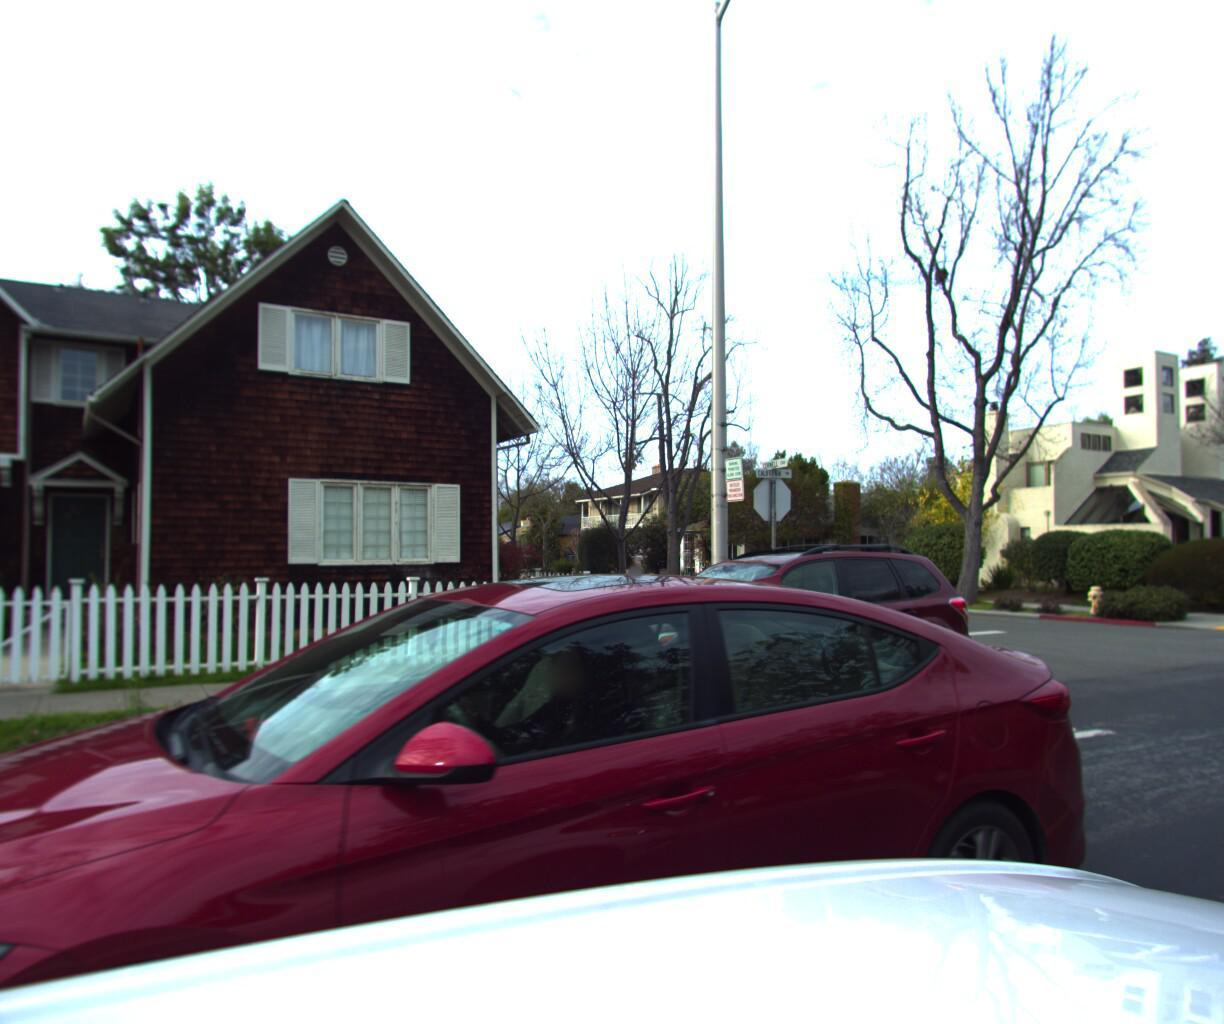car: (0, 564, 1138, 1024), (514, 541, 1000, 758)
